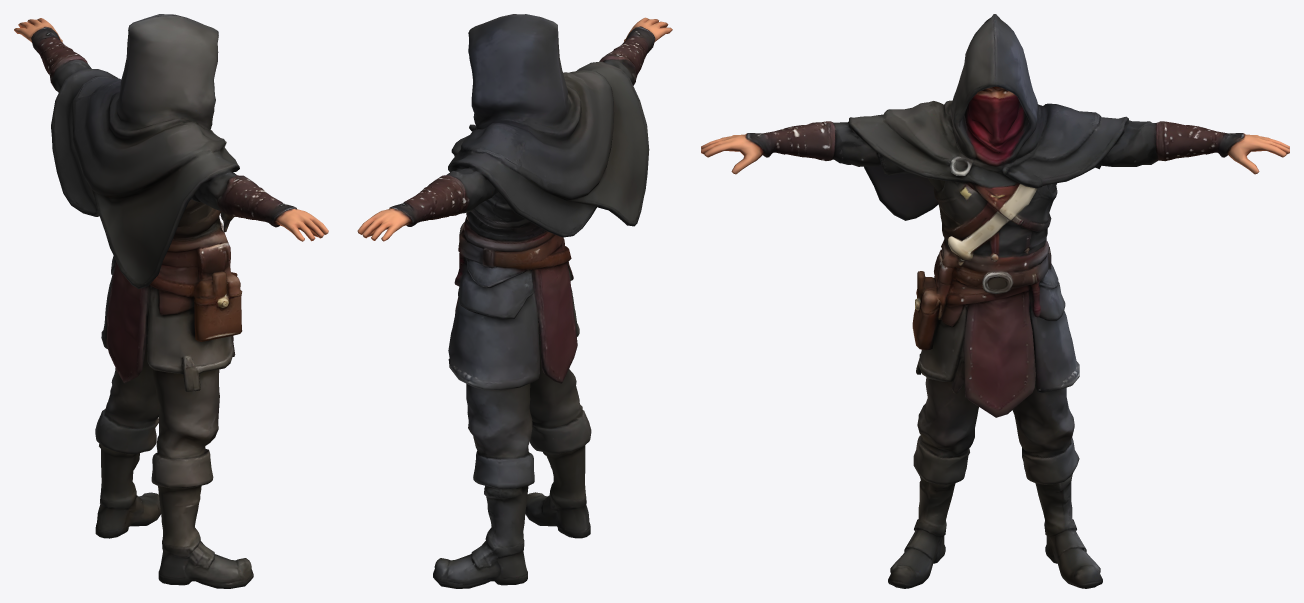
3 views of the same model, side by side, from view 1: azimuth 30°, elevation 25°; view 2: azimuth 150°, elevation 25°; view 3: azimuth 270°, elevation 25° (orthographic).
Visible parts, largest first — view 1: tripo_node_ccab3cd0-28a5-42bb-9409-c83472b5b8e9; view 2: tripo_node_ccab3cd0-28a5-42bb-9409-c83472b5b8e9; view 3: tripo_node_ccab3cd0-28a5-42bb-9409-c83472b5b8e9.
Boxes of the visible parts, left/top/right/bottom form: tripo_node_ccab3cd0-28a5-42bb-9409-c83472b5b8e9: left=14, top=14, right=328, bottom=588; tripo_node_ccab3cd0-28a5-42bb-9409-c83472b5b8e9: left=357, top=14, right=672, bottom=588; tripo_node_ccab3cd0-28a5-42bb-9409-c83472b5b8e9: left=701, top=14, right=1289, bottom=588.
Bounding box in the file's own units: 0.2583 × 1 × 0.9804.
1 material, 1 textured.
